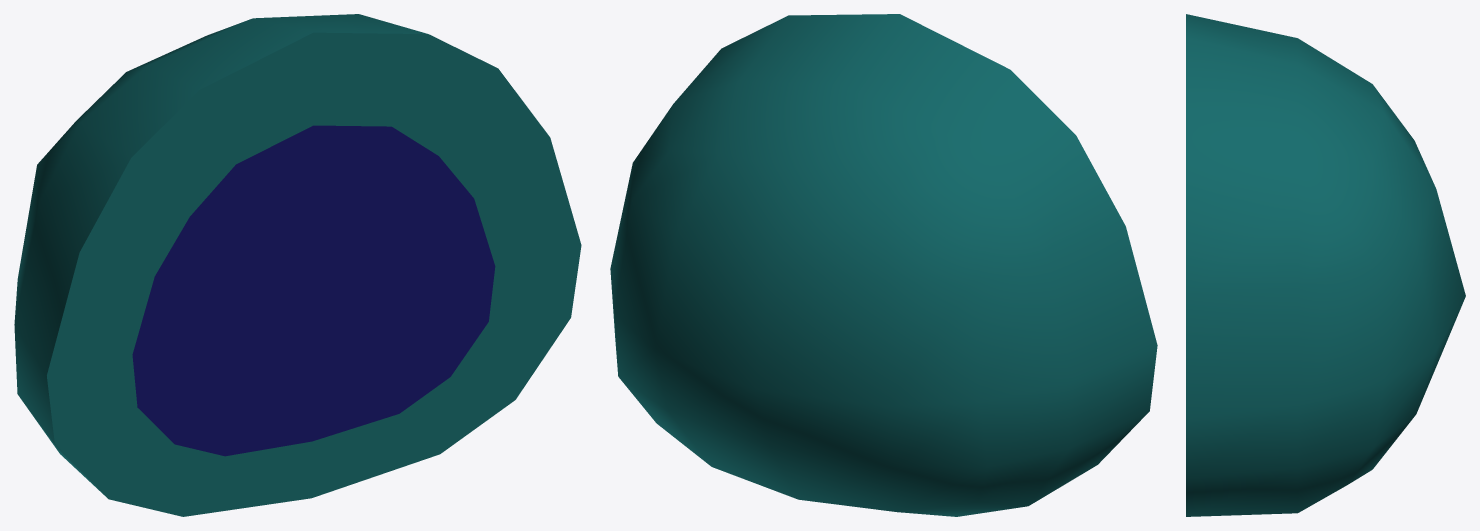
The model's file is Chapssaltteok.fbx.
The picture shows the model from 3 angles, left to right: view 1: azimuth 30°, elevation 25°; view 2: azimuth 150°, elevation 25°; view 3: azimuth 270°, elevation 25°; orthographic projection. The views are drawn at different scales.
Parts seen in each view (by area): view 1: Chapssaltteok; view 2: Chapssaltteok; view 3: Chapssaltteok.
Boxes of the visible parts, box(x1,y1,x2,y2) form: Chapssaltteok: box(14, 14, 581, 516); Chapssaltteok: box(610, 14, 1157, 516); Chapssaltteok: box(1186, 14, 1465, 516).
Bounding box in the file's own units: 59.41 × 49.39 × 29.
